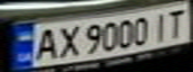0: (130, 14, 154, 45), (100, 19, 121, 52), (115, 17, 136, 48)
9: (81, 20, 103, 55)
A: (27, 26, 63, 62)
I: (148, 9, 172, 40)
T: (163, 6, 190, 38)
X: (54, 24, 81, 60)
